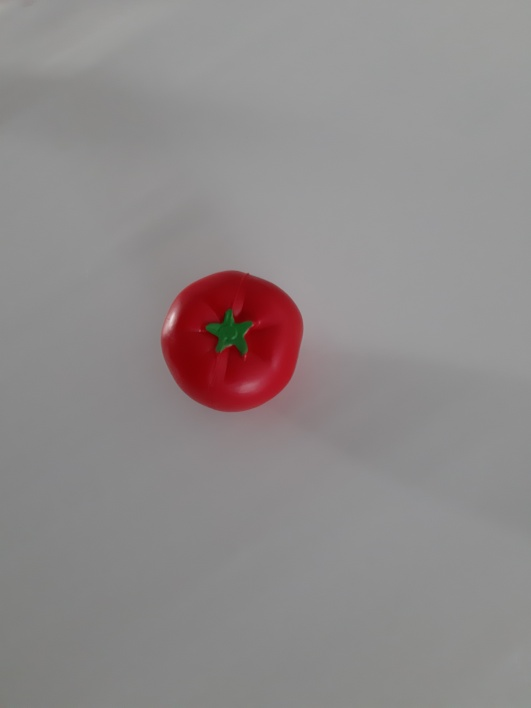tomato: (144, 259, 319, 427)
